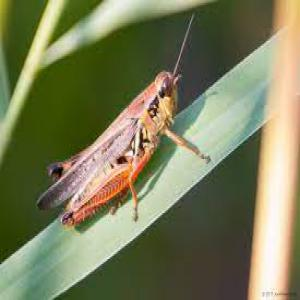locust: (45, 32, 207, 226)
